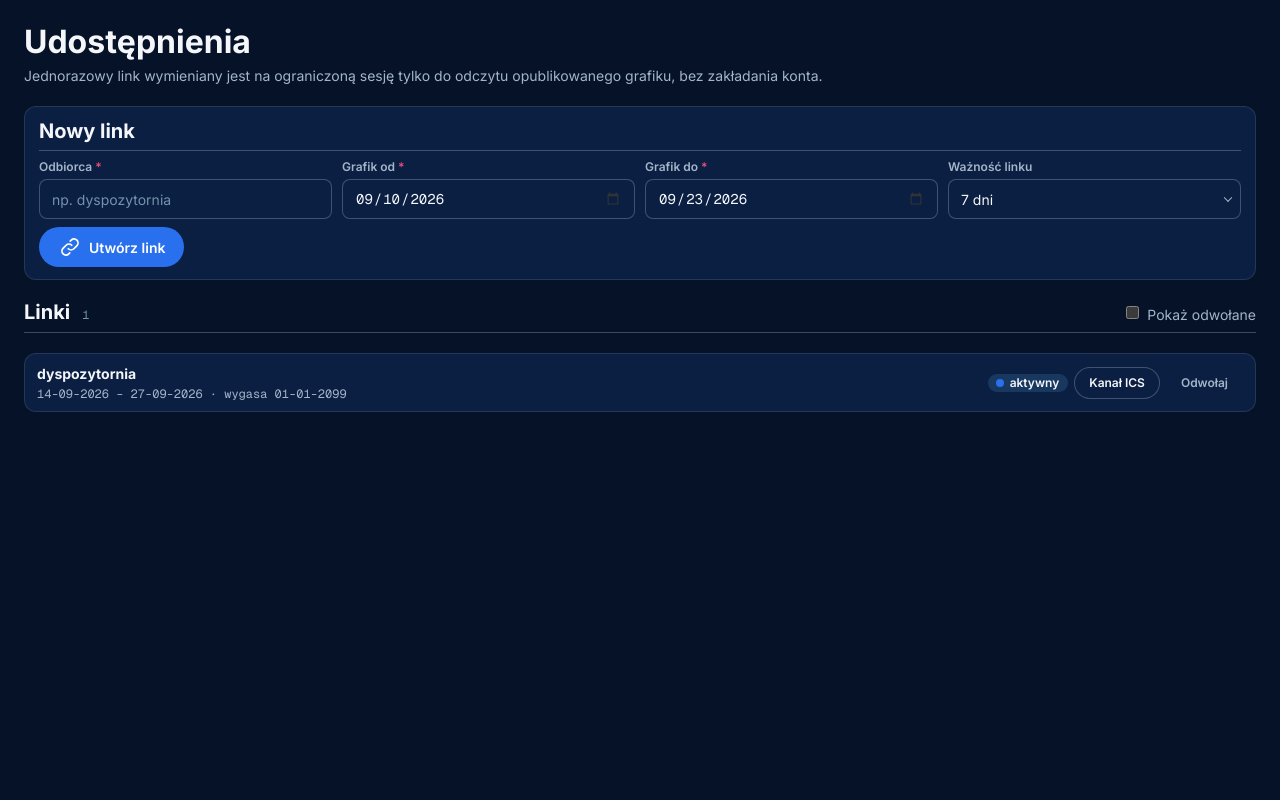
Test case: ShareLinksPanel revocation › keeps the link when the confirmation is cancelled
The width and height of the screenshot is (1280, 800).
Click the button "Odwołaj".
click(1204, 382)  # box x1=1166 y1=366 x2=1243 y2=398
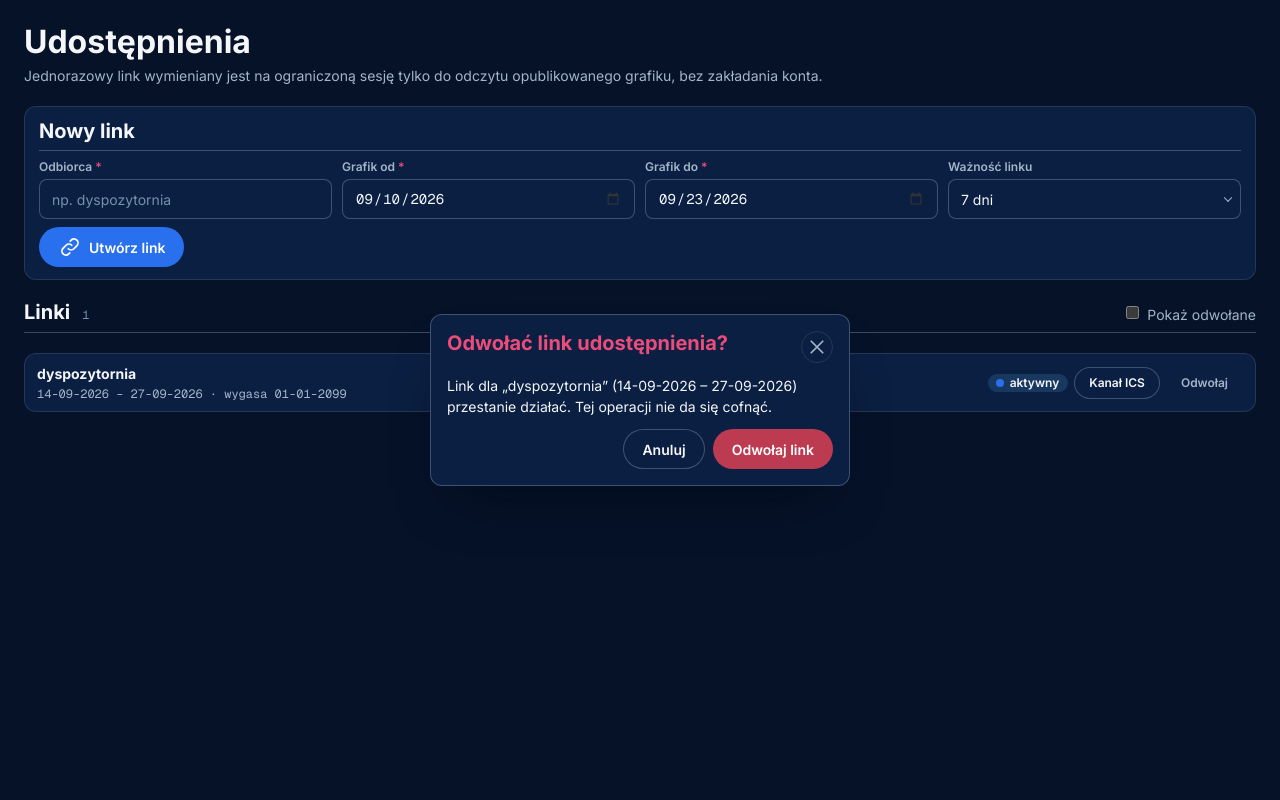
Expected: the text "Link dla „dyspozytornia” (14-09-2026 – 27-09-2026) przestanie działać" is shown, x1=447 y1=377 x2=797 y2=415
Click the button "Anuluj".
click(664, 449)  # box x1=623 y1=429 x2=705 y2=469
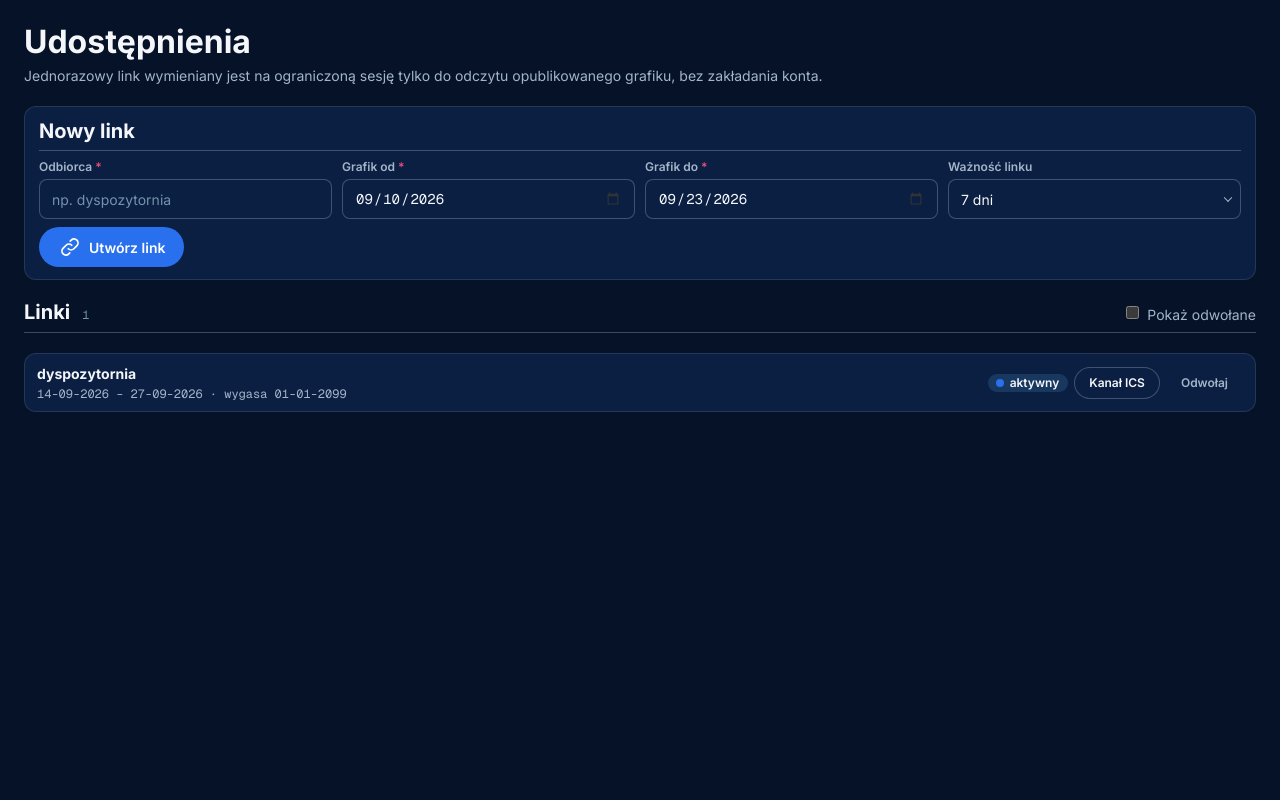
Expected: the dialog is gone
